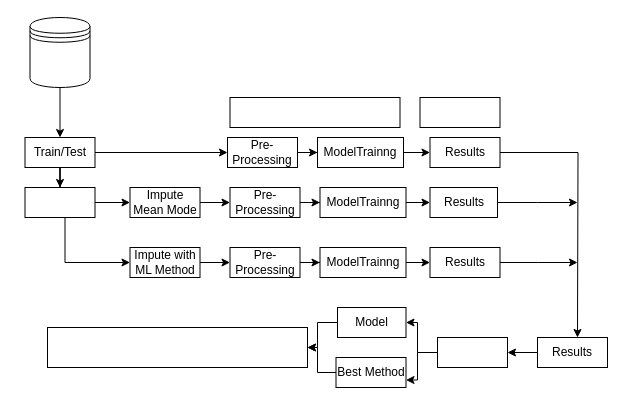
This 625x406 diagram has some shape labels left out. The shapes that lost their labels are listed below. From the top down, each one's centre as x and y in pixels, then its label:
pixel 59 52: Datasets
pixel 314 112: Benchmark of 70 Datasets
pixel 459 112: Single/Multi Columns
pixel 59 202: Corrupt/Dataset
pixel 177 347: Create Automatic selection for Intergreation
pixel 472 352: Analyse
